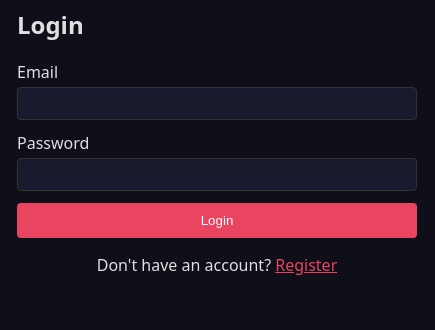
Test: Login Page › form submission › should show fallback error when API returns no message
Type "test@test.com" into the field labelled "Email". click: (217, 103)
box: [17,87,417,120]
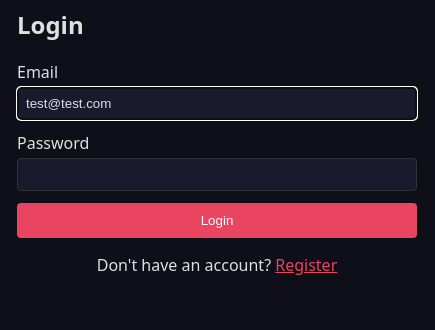
Type "123456" into the password field labelled "Password". click: (217, 174)
box: [17,158,417,191]
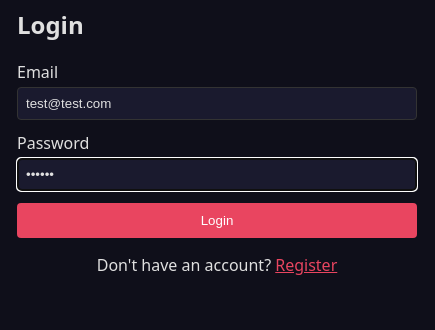
Click the button "Login". click: click(217, 220)
box: [17,203,417,238]
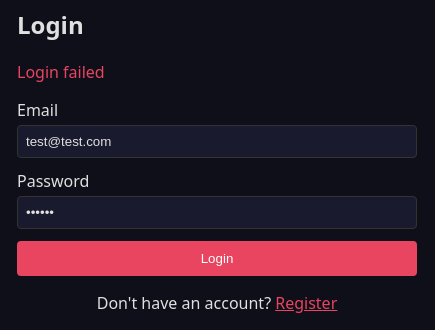
Result: the text "Login failed" is shown at [17,61,105,83]
